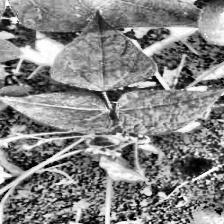ALS: (41, 18, 155, 85), (11, 0, 199, 30), (0, 92, 111, 134)
